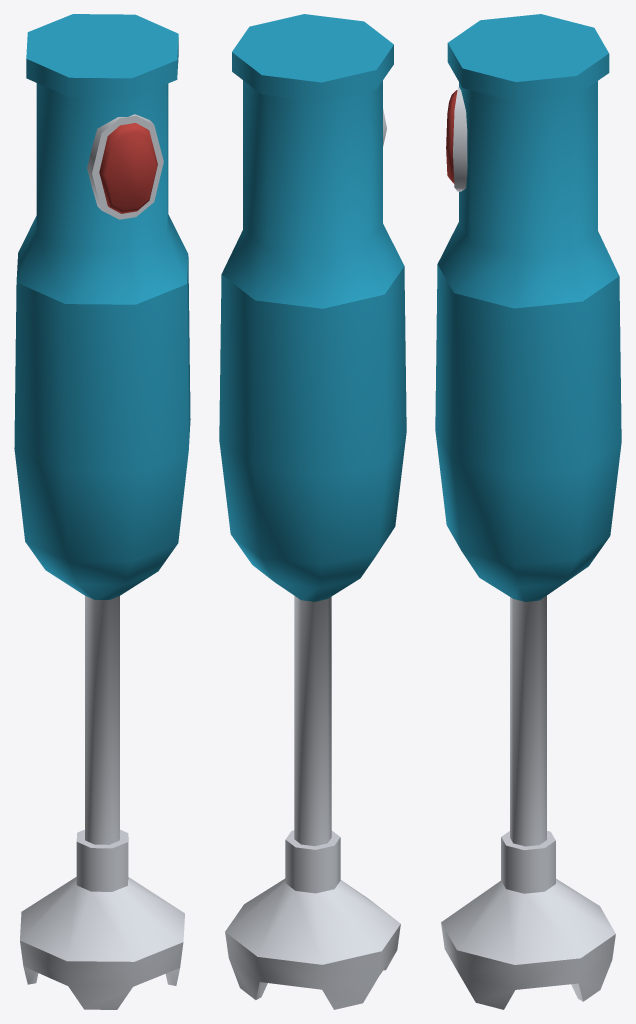
File: cooking_assets_immersion_blender.glb
The picture shows the model from 3 angles, left to right: view 1: azimuth 30°, elevation 25°; view 2: azimuth 150°, elevation 25°; view 3: azimuth 270°, elevation 25°; orthographic projection.
Parts seen in each view (by area): view 1: immersion_blender_Cylinder.009; view 2: immersion_blender_Cylinder.009; view 3: immersion_blender_Cylinder.009.
Part boxes in pixels (box(x1,y1,x2,y2)): immersion_blender_Cylinder.009: box(14, 14, 190, 1009); immersion_blender_Cylinder.009: box(219, 14, 406, 1009); immersion_blender_Cylinder.009: box(435, 14, 621, 1009).
Bounding box in the file's own units: 1.68 × 9.27 × 1.68.
Materials: 1 (1 with a texture image).
